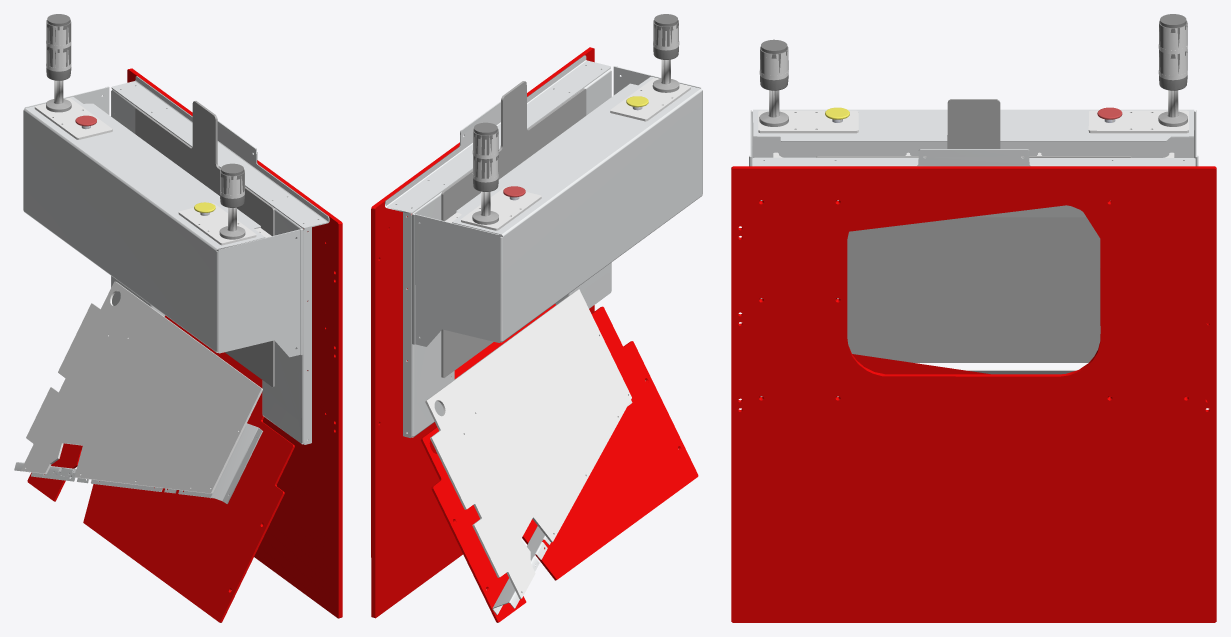
Rendered from RedAmp.fbx.
3 renders of one model, left to right at view 1: azimuth 30°, elevation 25°; view 2: azimuth 150°, elevation 25°; view 3: azimuth 270°, elevation 25°, orthographic. The views are drawn at different scales.
Parts seen in each view (by area): view 1: GE-24116, GE-24122, GE-24120, GE-24114, GE-24111, GE-24108-01, GE-24110-01.002, GE-24125, GE-24127, GE-24127.001, GE-24124, GE-24110-01.003 (+5 smaller); view 2: GE-24116, GE-24122, GE-24114, GE-24120, GE-24111, GE-24108-01, GE-24110-01.003, GE-24110-01.002, GE-24127.001, GE-24127, GE-24124, 855T-MPB10 Light.001 (+4 smaller); view 3: GE-24114, GE-24111, GE-24116, GE-24108-01, GE-24127.001, GE-24127, 855T-MPB10 Light.002, 855T-MPB10 Light.001, 855T-MPB10 Stand, 855T-MPB10 Stand.001, GE-24112, 855T-MPB10 Light (+1 smaller).
Boxes of the visible parts, <box> form: GE-24116: <box>23,86,303,357</box>; GE-24122: <box>21,281,262,493</box>; GE-24120: <box>27,315,294,622</box>; GE-24114: <box>127,68,342,618</box>; GE-24111: <box>135,101,274,387</box>; GE-24108-01: <box>111,76,329,228</box>; GE-24110-01.002: <box>262,208,311,444</box>; GE-24125: <box>206,423,262,503</box>; GE-24127: <box>34,98,112,139</box>; GE-24127.001: <box>178,203,256,245</box>; GE-24124: <box>14,462,213,498</box>; GE-24110-01.003: <box>111,89,165,316</box>; GE-24116: <box>412,66,702,346</box>; GE-24122: <box>425,289,631,598</box>; GE-24114: <box>371,47,594,618</box>; GE-24120: <box>421,304,698,622</box>; GE-24111: <box>441,81,586,377</box>; GE-24108-01: <box>385,55,610,213</box>; GE-24110-01.003: <box>403,192,454,437</box>; GE-24110-01.002: <box>555,69,611,308</box>; GE-24127.001: <box>610,78,690,121</box>; GE-24127: <box>461,187,541,230</box>; GE-24124: <box>492,526,550,614</box>; 855T-MPB10 Light.001: <box>653,14,679,50</box>; GE-24114: <box>731,166,1216,622</box>; GE-24111: <box>816,99,1131,362</box>; GE-24116: <box>749,109,1198,166</box>; GE-24108-01: <box>752,149,1195,166</box>; GE-24127.001: <box>758,110,858,133</box>; GE-24127: <box>1088,110,1188,133</box>; 855T-MPB10 Light.002: <box>1158,14,1187,54</box>; 855T-MPB10 Light.001: <box>759,39,788,80</box>; 855T-MPB10 Stand: <box>1158,75,1187,126</box>; 855T-MPB10 Stand.001: <box>759,75,788,126</box>; GE-24112: <box>969,205,1086,217</box>; 855T-MPB10 Light: <box>1158,49,1187,80</box>.
Size of the model in its own units: 40.77 by 147 by 117.
